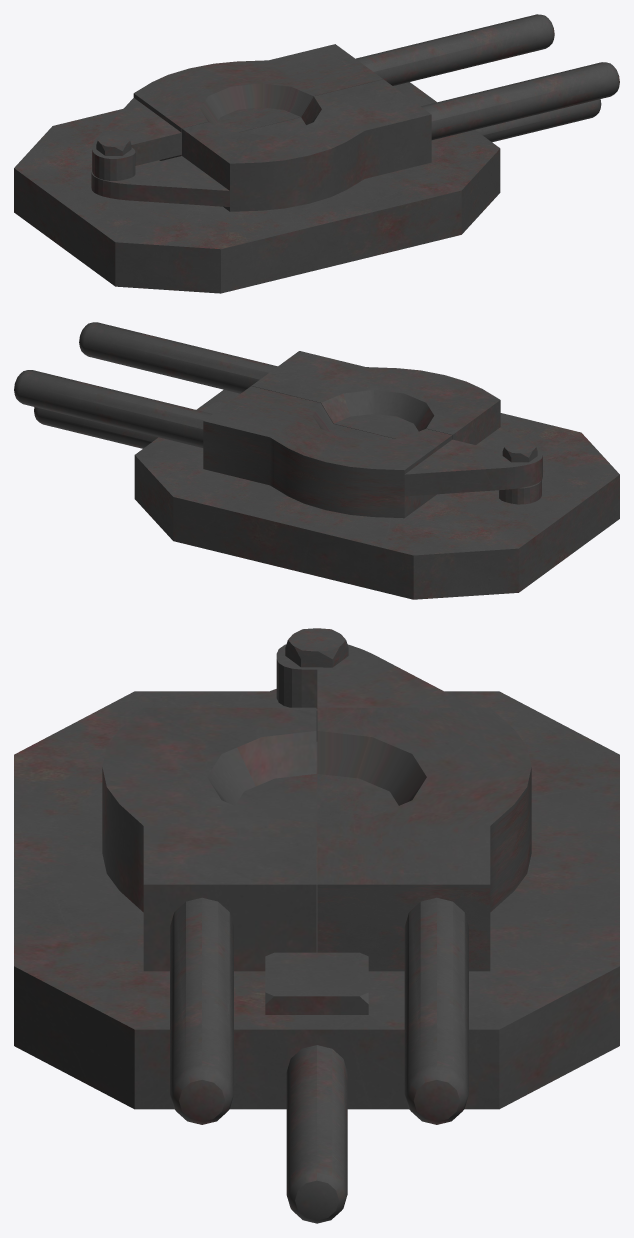
File: Sample pouring tool.fbx
3 views of the same model, one above another, from view 1: azimuth 30°, elevation 25°; view 2: azimuth 150°, elevation 25°; view 3: azimuth 270°, elevation 25° (orthographic). The views are drawn at different scales.
Visible parts, largest first — view 1: Cube, Cube.003, Cube.002, Cylinder.004, Cylinder.002, Cube.005, Cube.004, Cylinder.001, Cylinder; view 2: Cube, Cube.002, Cube.003, Cylinder.002, Cylinder.004, Cube.004, Cylinder.001, Cube.005, Cylinder; view 3: Cube, Cube.002, Cube.003, Cylinder.002, Cylinder.004, Cylinder.001, Cube.004, Cube.001, Cylinder.
Boxes of the visible parts, x1,y1,x2,y2 form: Cube: (14, 82, 500, 293); Cube.003: (182, 79, 431, 211); Cube.002: (133, 44, 382, 160); Cylinder.004: (421, 62, 619, 139); Cylinder.002: (356, 14, 554, 85); Cube.005: (91, 156, 229, 206); Cube.004: (92, 98, 181, 180); Cylinder.001: (475, 99, 601, 142); Cylinder: (96, 134, 131, 155); Cube: (134, 390, 619, 599); Cube.002: (203, 386, 452, 518); Cube.003: (251, 351, 500, 444); Cylinder.002: (14, 370, 212, 447); Cylinder.004: (79, 322, 277, 393); Cube.004: (404, 439, 542, 496); Cylinder.001: (34, 407, 157, 448); Cube.005: (476, 427, 541, 504); Cylinder: (502, 440, 537, 462); Cube: (14, 691, 619, 1109); Cube.002: (317, 707, 531, 971); Cube.003: (102, 707, 316, 971); Cylinder.002: (404, 897, 468, 1124); Cylinder.004: (170, 897, 233, 1124); Cylinder.001: (286, 1045, 347, 1223); Cube.004: (276, 644, 474, 708); Cube.001: (265, 952, 368, 1014); Cylinder: (285, 628, 348, 741).
Size of the model in its own units: 446 by 77.85 by 245.
1 material, 1 textured.
